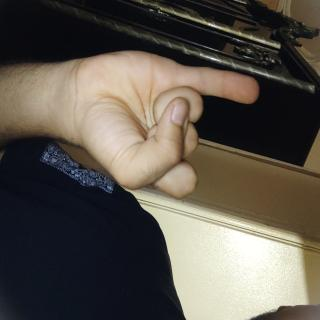MEEM: (32, 75, 150, 320)
